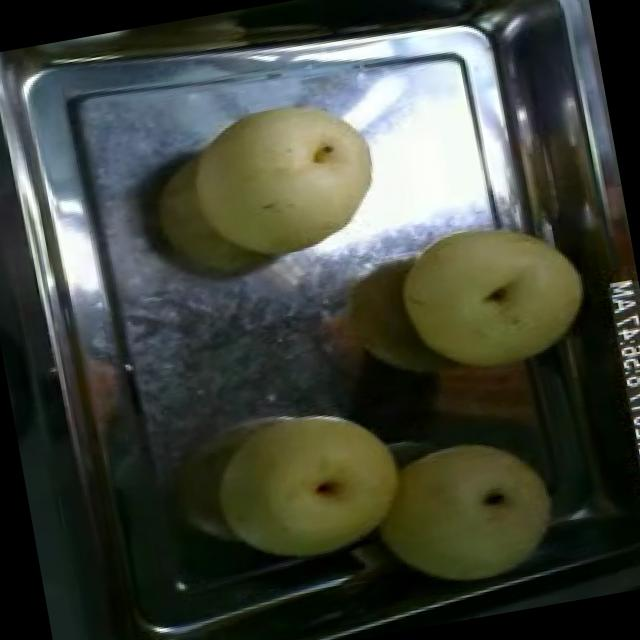Fruit: (121, 78, 402, 298), (183, 376, 427, 592), (344, 408, 578, 617), (378, 198, 608, 398)
